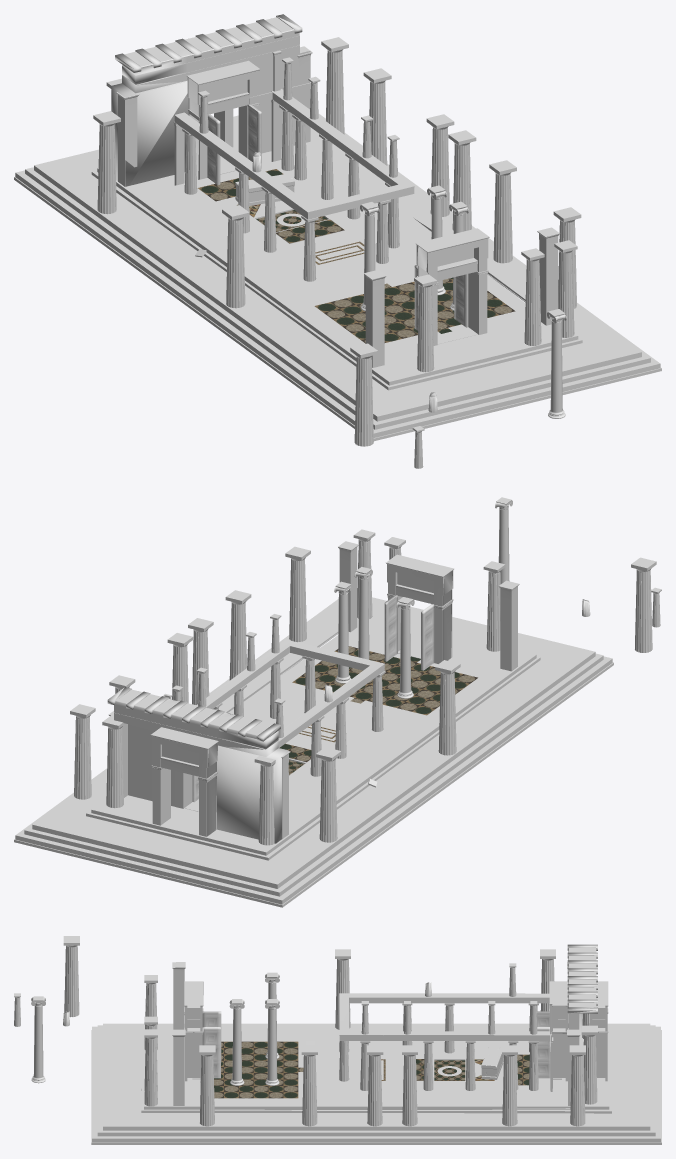
The model's file is Temple+altar.fbx.
3 views of the same model, one above another, from view 1: azimuth 30°, elevation 25°; view 2: azimuth 150°, elevation 25°; view 3: azimuth 270°, elevation 25° (orthographic). The views are drawn at different scales.
Parts seen in each view (by area): view 1: Parthenon, Parthenon.004, Parthenon.002, Cube; view 2: Parthenon, Parthenon.004, Parthenon.002; view 3: Parthenon, Parthenon.004, Parthenon.002, Cube.
Part boxes in pixels (<box>): Parthenon: <box>14,14,661,441</box>; Parthenon.004: <box>350,343,377,446</box>; Parthenon.002: <box>547,309,566,418</box>; Cube: <box>235,174,294,205</box>; Parthenon: <box>14,529,613,907</box>; Parthenon.004: <box>631,557,656,652</box>; Parthenon.002: <box>495,497,512,583</box>; Parthenon: <box>91,944,661,1144</box>; Parthenon.004: <box>63,936,79,1017</box>; Parthenon.002: <box>31,996,45,1083</box>; Cube: <box>481,1046,503,1079</box>.
Size of the model in its own units: 3731 by 1556 by 8241.
